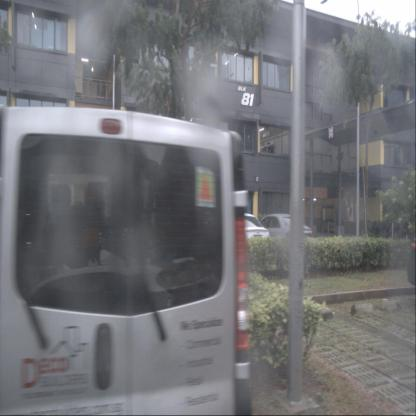vehicle-car: (0, 104, 252, 415), (210, 214, 270, 257), (254, 214, 312, 255)
